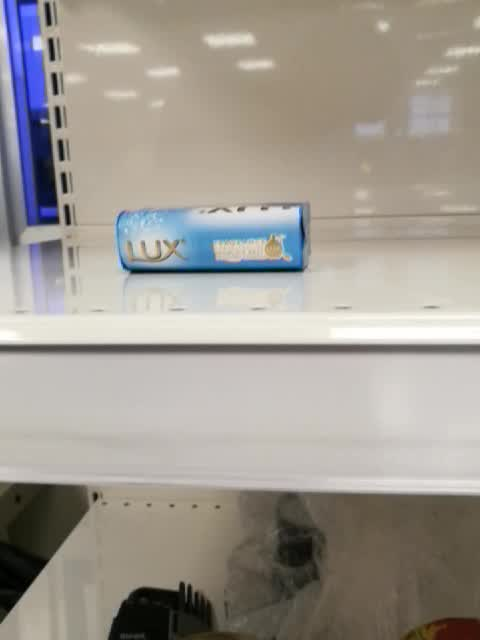soap: (112, 201, 313, 275)
